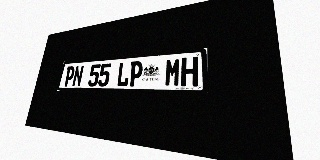5: (98, 63, 111, 86), (88, 64, 101, 86)
H: (181, 56, 198, 86)
L: (116, 62, 131, 86)
M: (164, 58, 181, 86)
N: (72, 65, 84, 86)
P: (128, 61, 143, 86), (63, 66, 76, 86)
